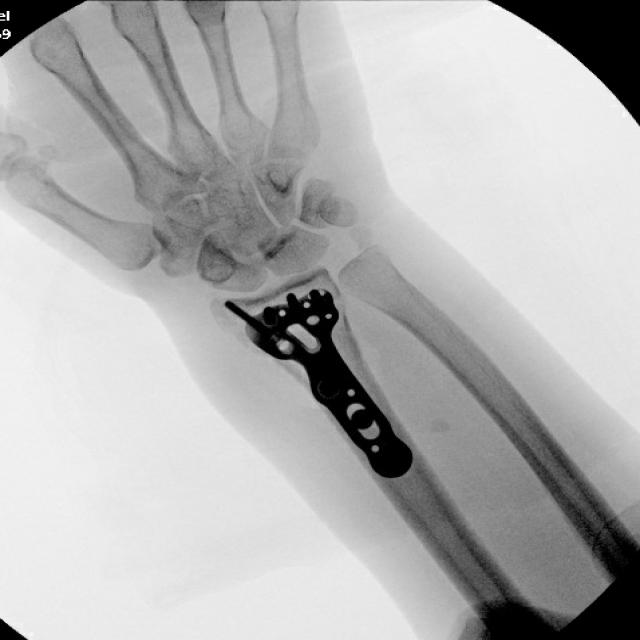x-ray: (217, 286, 432, 484)
